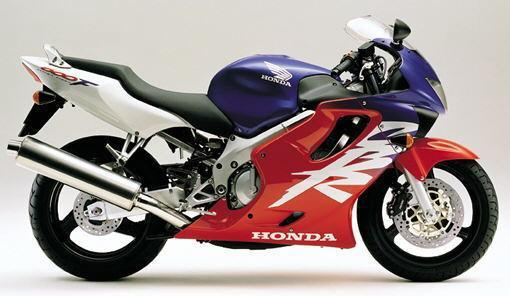motorcycle: (5, 7, 508, 293)
